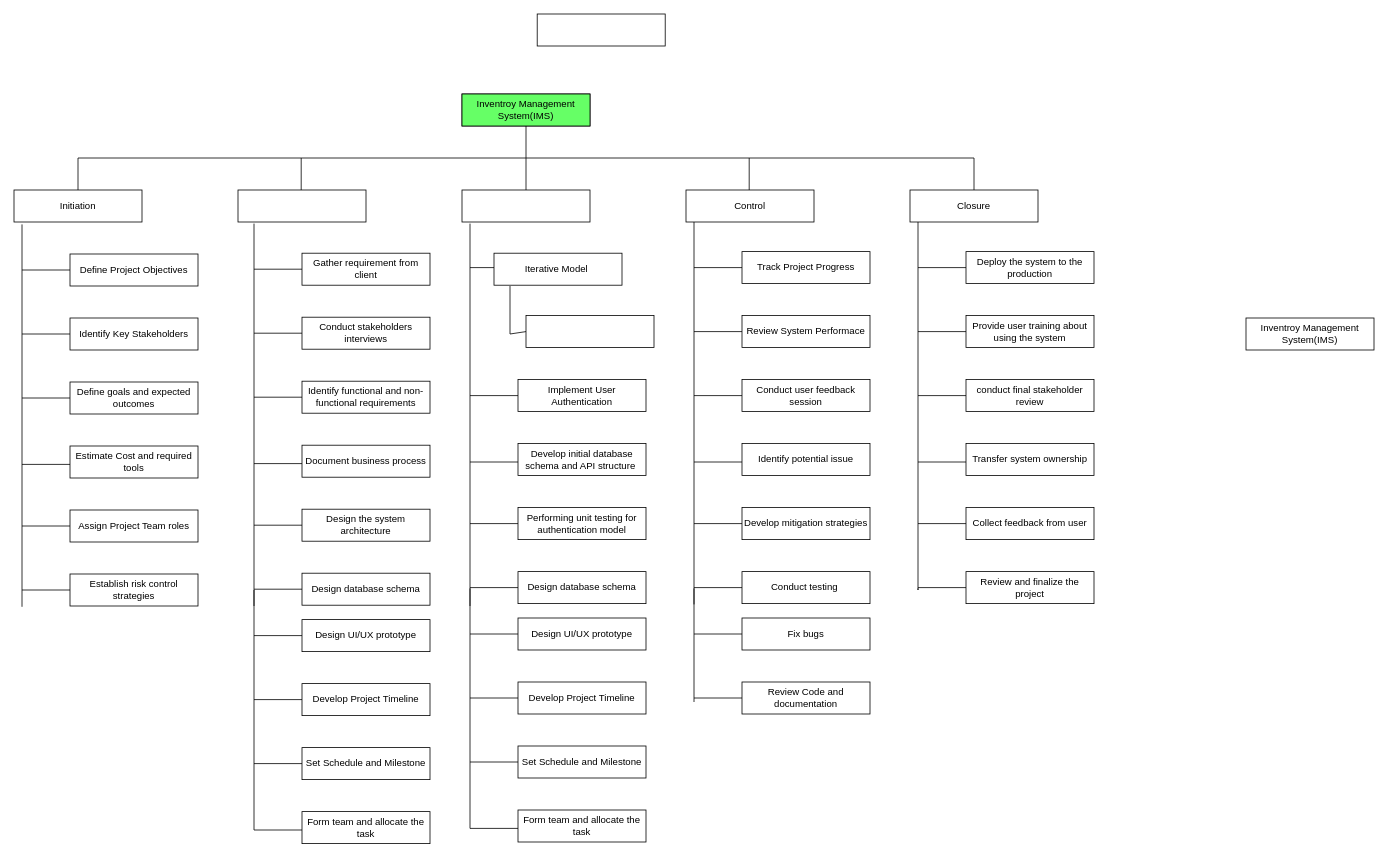
This 1388x858 diagram has some shape labels left out. The centre of each missing label's shape, as x and y in pixels:
Execution: (525,205)
Planning: (301,205)
Set project repository and develop environment: (589,331)
